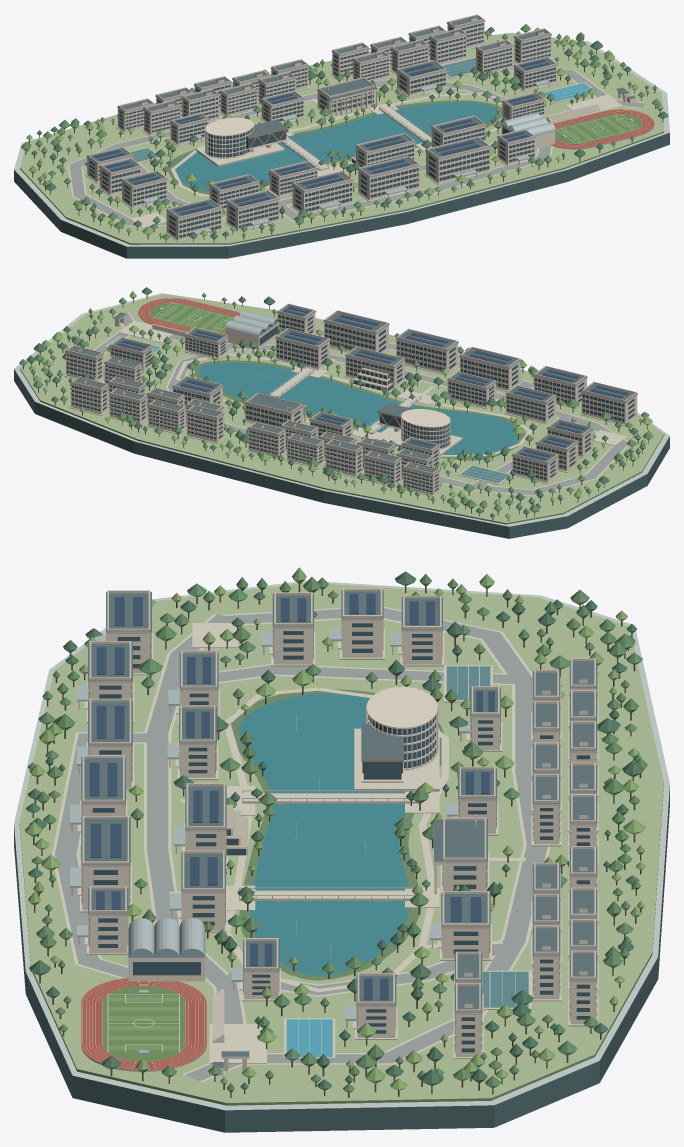
The model's file is campus.glb.
The picture shows the model from 3 angles, top to bottom: view 1: azimuth 30°, elevation 25°; view 2: azimuth 150°, elevation 25°; view 3: azimuth 270°, elevation 25°; orthographic projection. The views are drawn at different scales.
Size of the model in its own units: 109 by 7.26 by 57.01.
